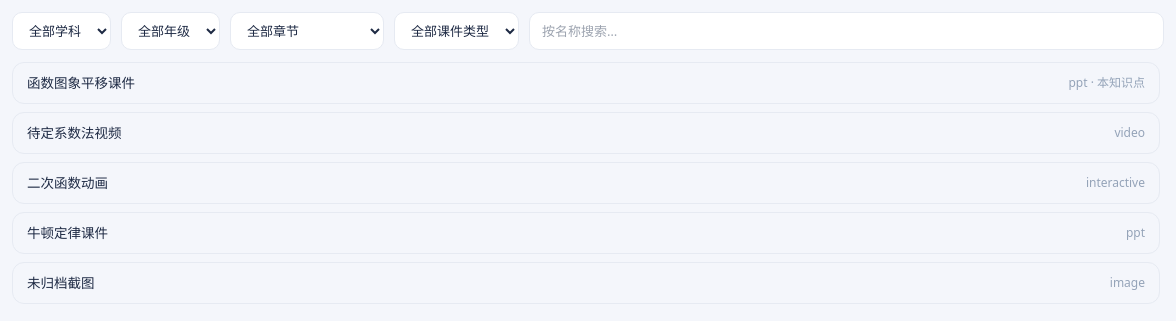
GroupedPicker · 挂载课件场景(学科›年级›章节 + 类型) › 再选年级=初二 → 章节下拉只出现第十九章,列表只剩该章两项
Select "数学" in the dropdown named "学科". click: (62, 31)
box: left=12, top=12, right=111, bottom=50
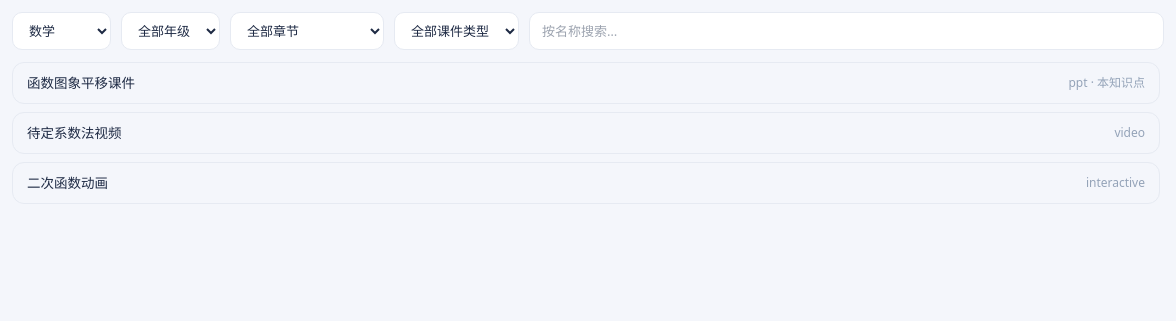
Select "初二" in the dropdown named "年级". click: (170, 31)
box: left=121, top=12, right=220, bottom=50
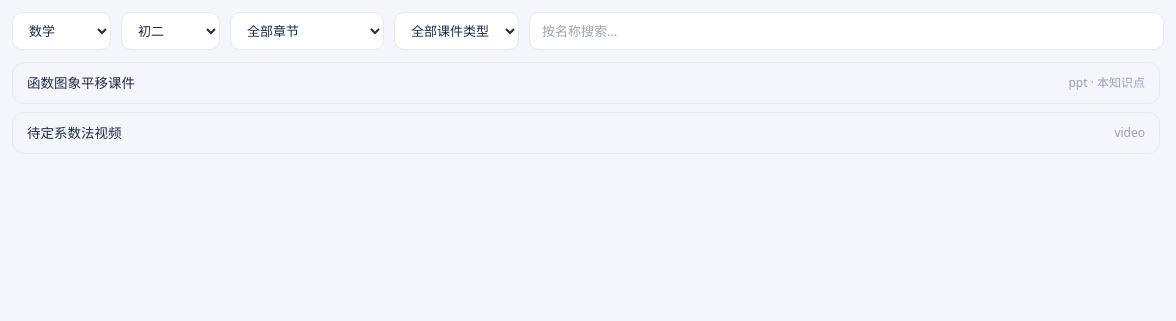
Expected: the text "函数图象平移课件" is shown, left=27, top=73, right=135, bottom=93
Expected: the text "二次函数动画" is gone
